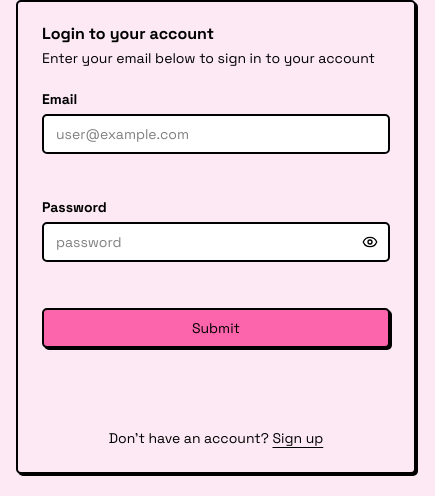
Scenario: SignInForm › email should not contain any whitespace
Type "popique the cat" into the field with test id "email-input" at {"x": 216, "y": 134}, box 42,114 -> 390,154
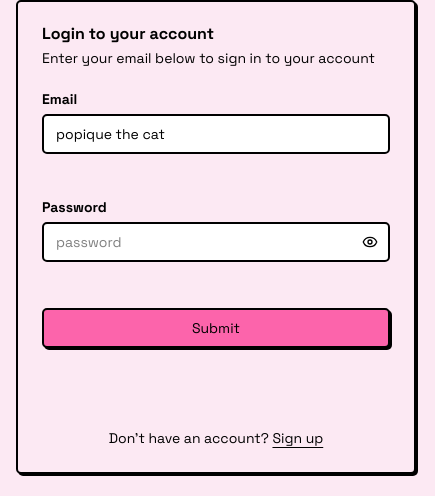
Click the button "Submit" at {"x": 216, "y": 328}, box 42,308 -> 390,348
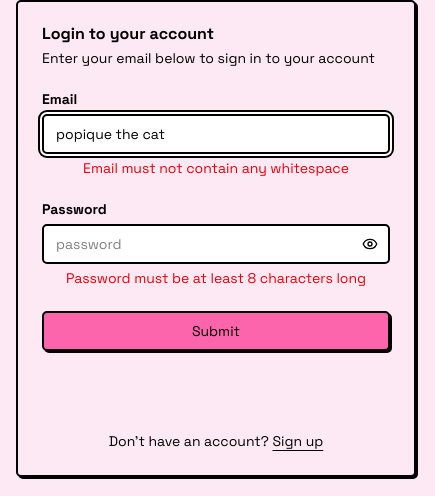
Check: the text "Email must not contain any whitespace" is shown, box 83,160 -> 349,178
